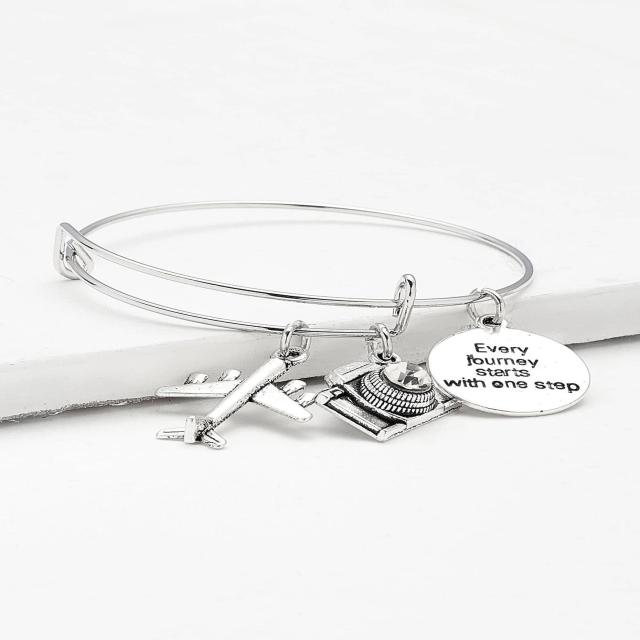bracelet: (0, 143, 640, 532)
